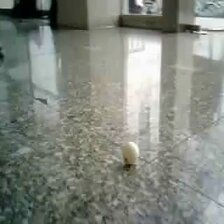w: (122, 141, 140, 163)
